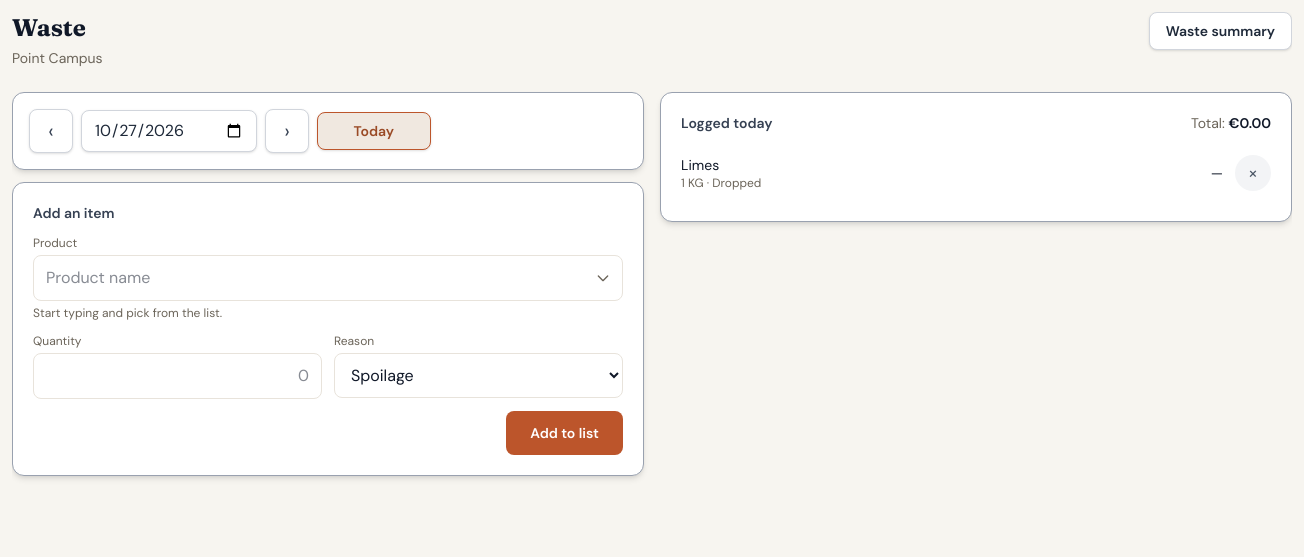
a manager deleting an entry › says so when nothing was deleted
This screenshot has width=1304, height=557.
Click the button named "Delete entry": (1253, 173) x1=1235 y1=155 x2=1271 y2=191
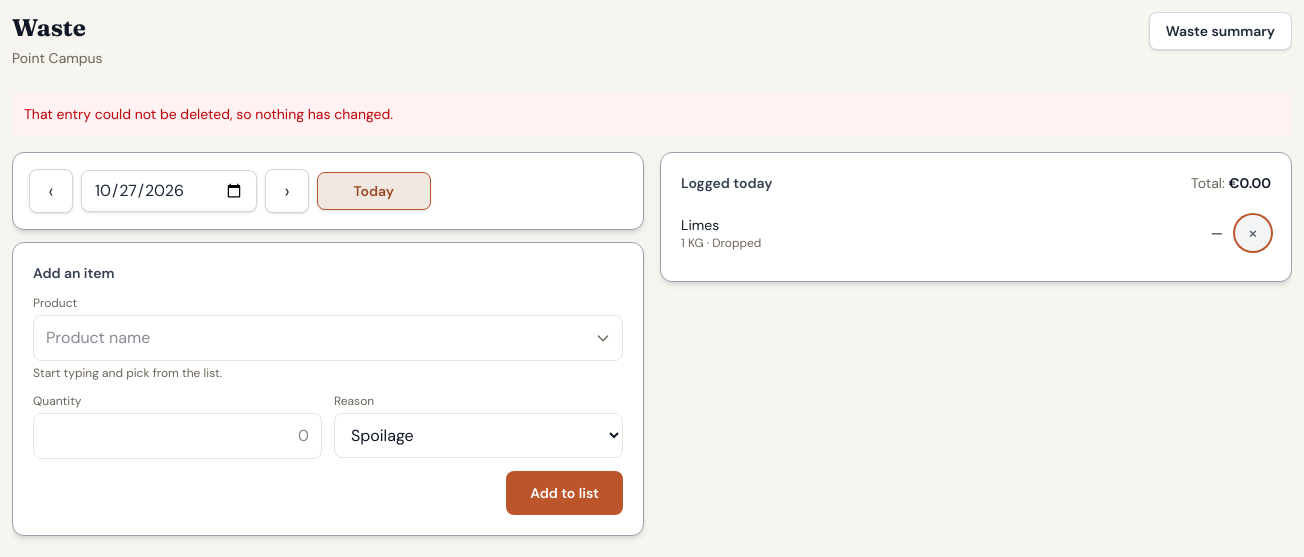
Expected: the text "Limes" is shown, x1=681 y1=216 x2=719 y2=234
Expected: the text "That entry could not be deleted, so nothing has changed." is shown, x1=12 y1=92 x2=1292 y2=136
